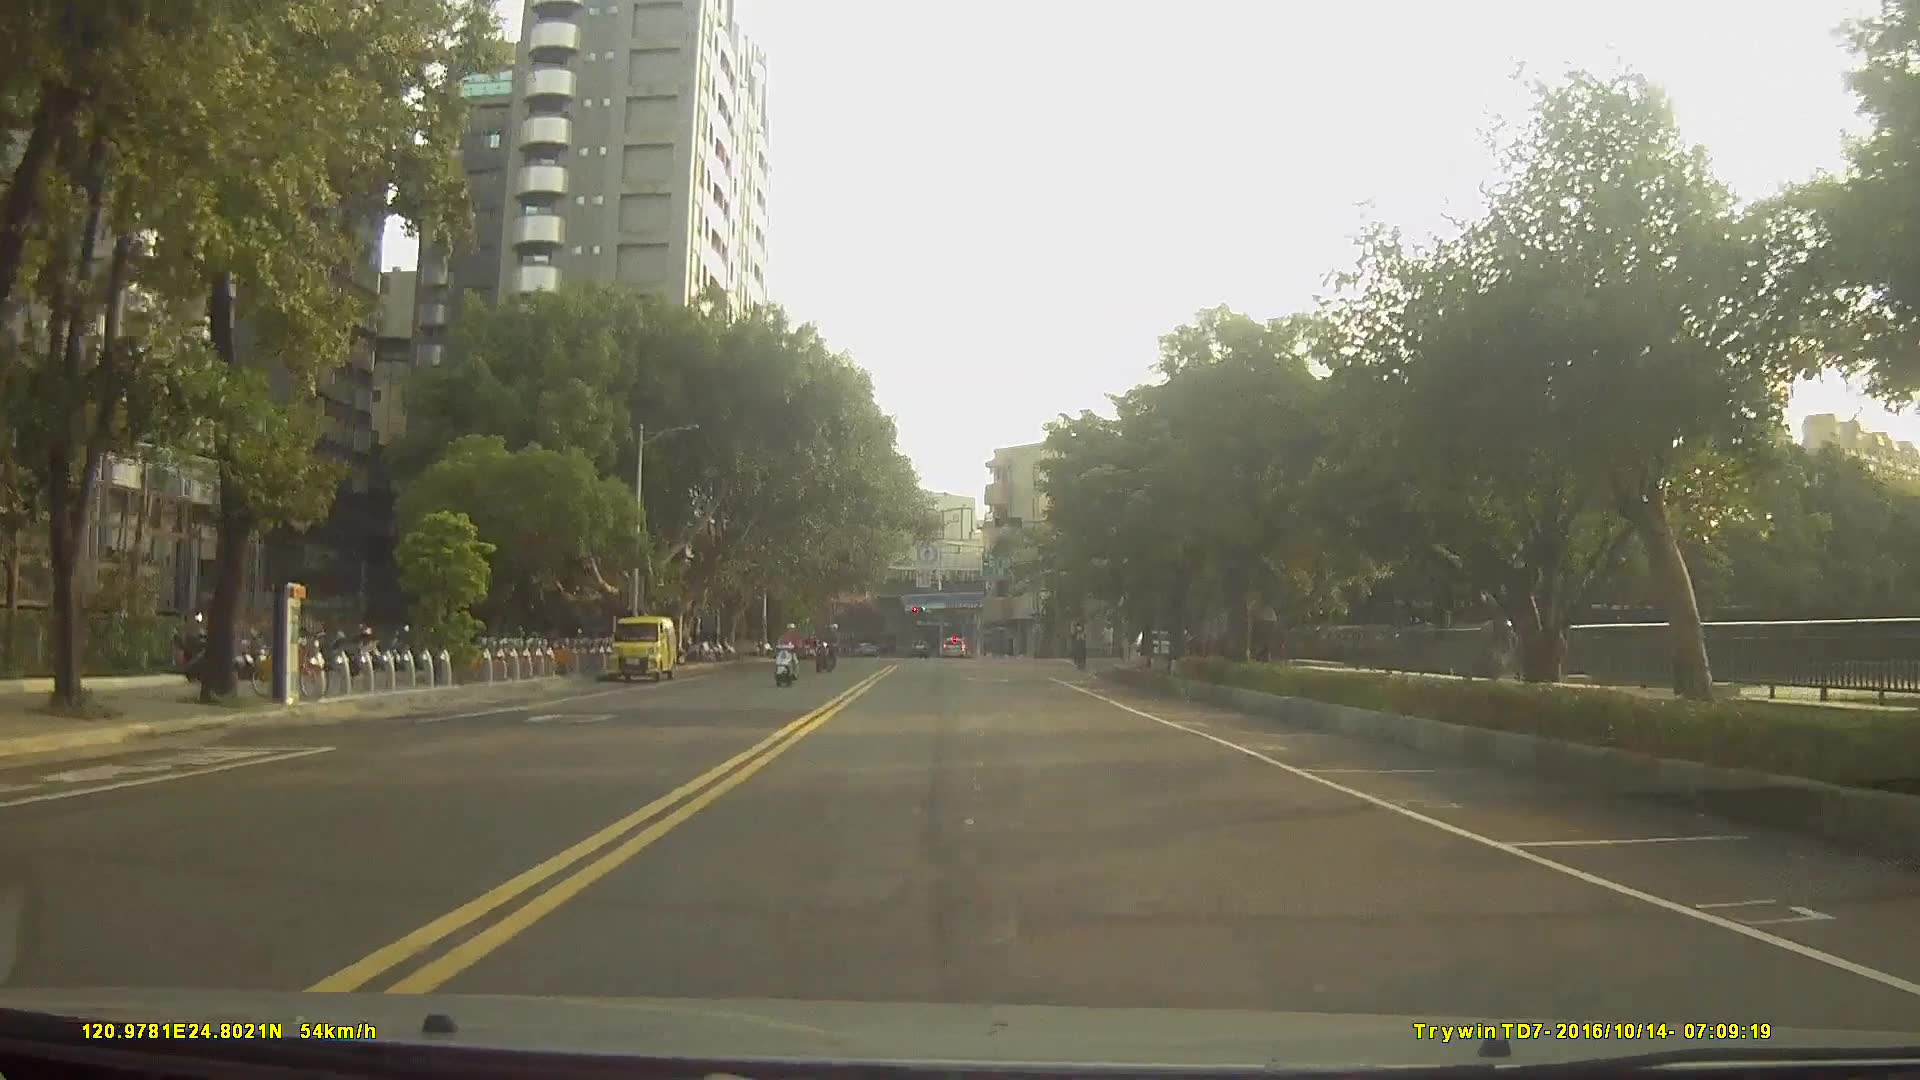pedestrian: (1098, 622, 1118, 661)
rider: (772, 615, 806, 679), (814, 621, 843, 674), (1069, 623, 1090, 669)
vehicle: (935, 634, 965, 660)
